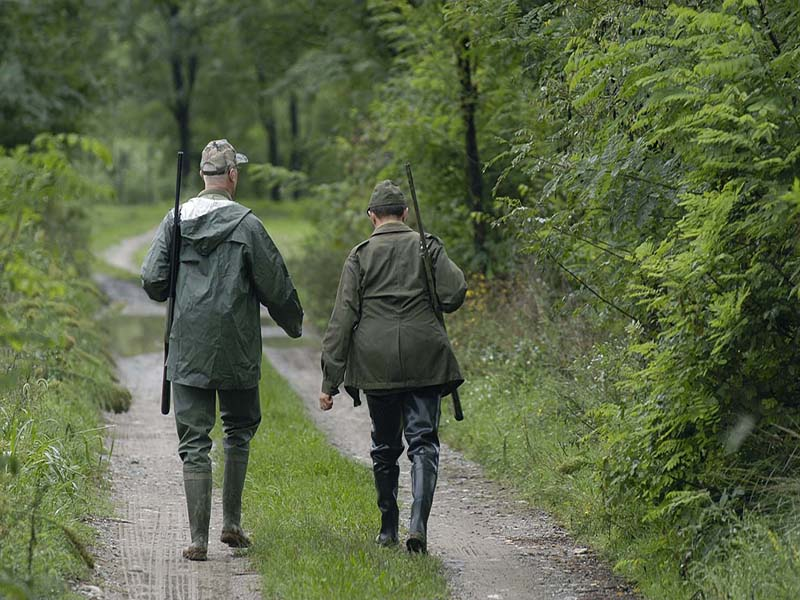cacciatore: (330, 182, 468, 563), (152, 131, 267, 561)
